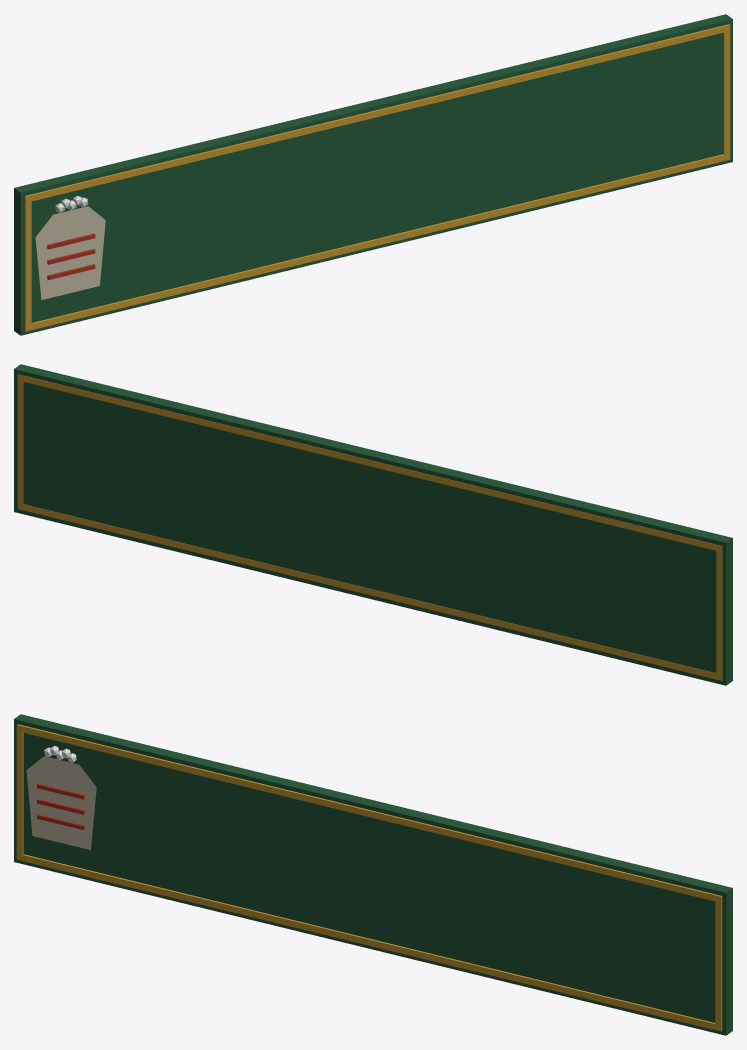
File: bang_tap_hoa_thu_ha_40.glb
3 renders of one model, top to bottom at view 1: azimuth 30°, elevation 25°; view 2: azimuth 150°, elevation 25°; view 3: azimuth 330°, elevation 25°, orthographic.
Visible parts, largest first — view 1: bang_tap_hoa_thu_ha_40; view 2: bang_tap_hoa_thu_ha_40; view 3: bang_tap_hoa_thu_ha_40.
Boxes of the visible parts, box(x1,y1,x2,y2) form: bang_tap_hoa_thu_ha_40: box(14, 14, 732, 335); bang_tap_hoa_thu_ha_40: box(14, 364, 732, 685); bang_tap_hoa_thu_ha_40: box(14, 714, 732, 1035).
Bounding box in the file's own units: 3.65 × 0.7 × 0.1024.
